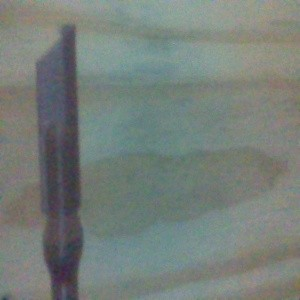cutter: (32, 22, 85, 300)
